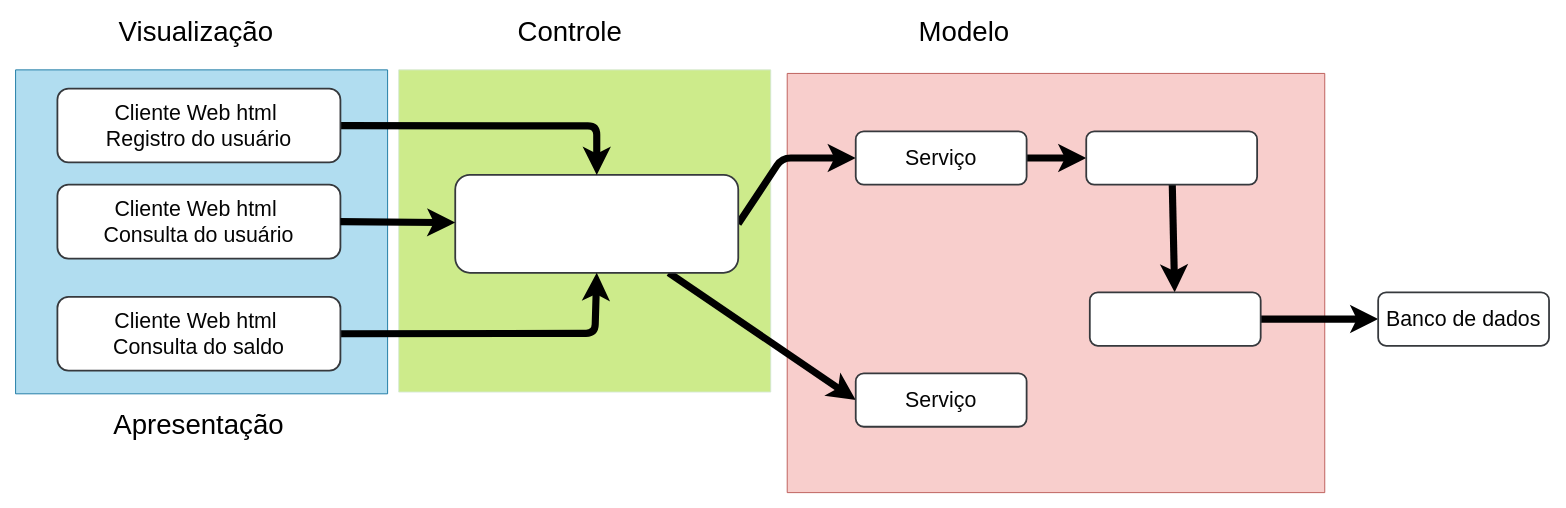
This 1566x508 diagram has some shape labels left out. Here are the shapes that lost their labels. From the top down, the centre of each, then its label:
(1171,157): Negócio
(596,223): Controladora
(1174,318): Persitência
